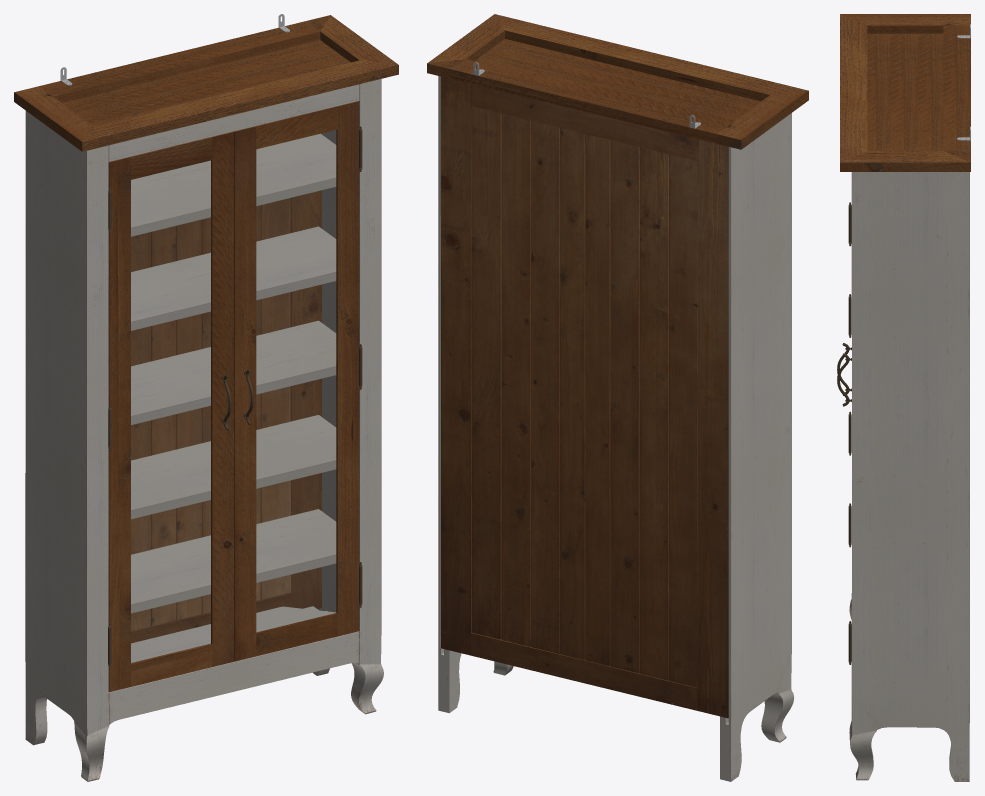
The model's file is obj_qwbb00_fb098c.glb.
3 views of the same model, side by side, from view 1: azimuth 30°, elevation 25°; view 2: azimuth 150°, elevation 25°; view 3: azimuth 270°, elevation 25° (orthographic). The views are drawn at different scales.
Parts seen in each view (by area): view 1: obj_qwbb00_fb098c; view 2: obj_qwbb00_fb098c; view 3: obj_qwbb00_fb098c.
Boxes of the visible parts, <box> form: obj_qwbb00_fb098c: <box>14,14,398,781</box>; obj_qwbb00_fb098c: <box>427,14,808,781</box>; obj_qwbb00_fb098c: <box>837,14,970,781</box>.
Size of the model in its own units: 0.5 by 1 by 0.1902.
5 materials, 4 textured.
